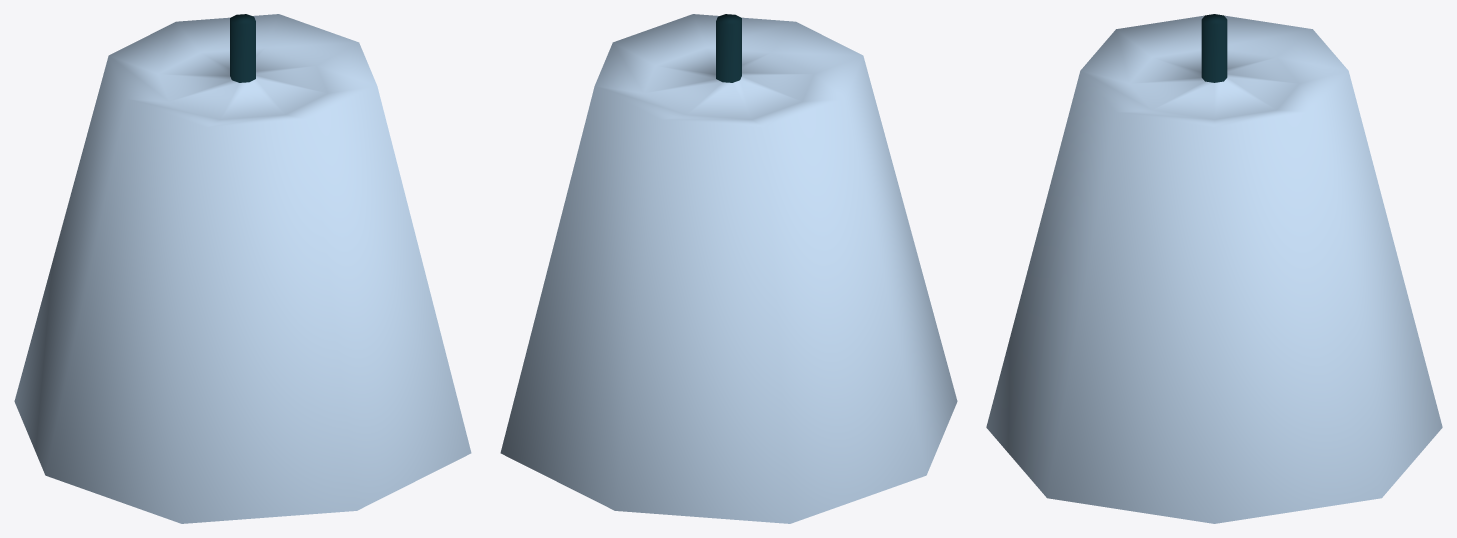
File: Candles1.fbx
The picture shows the model from 3 angles, left to right: view 1: azimuth 30°, elevation 25°; view 2: azimuth 150°, elevation 25°; view 3: azimuth 270°, elevation 25°; orthographic projection.
Parts seen in each view (by area): view 1: Candles1; view 2: Candles1; view 3: Candles1.
Part boxes in pixels (left/top/right/bottom): Candles1: left=14, top=14, right=471, bottom=523; Candles1: left=500, top=14, right=957, bottom=523; Candles1: left=986, top=14, right=1442, bottom=523.
Size of the model in its own units: 0.5317 by 0.5245 by 0.5317.
